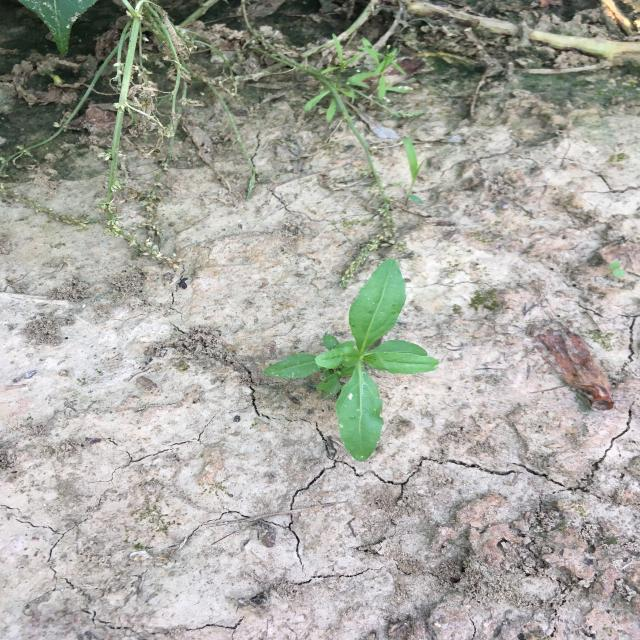Eclipta: (262, 257, 441, 463)
